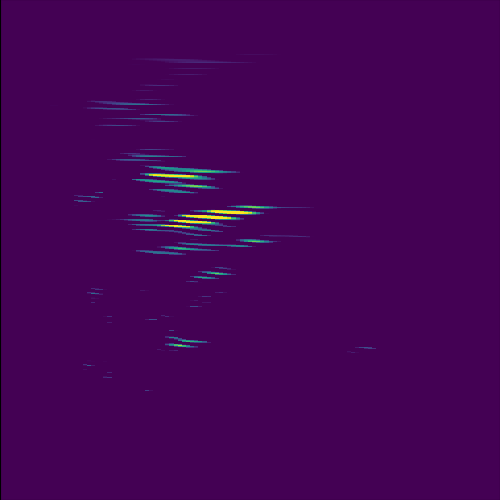semblance: (126, 201, 281, 235), (131, 165, 235, 195)
